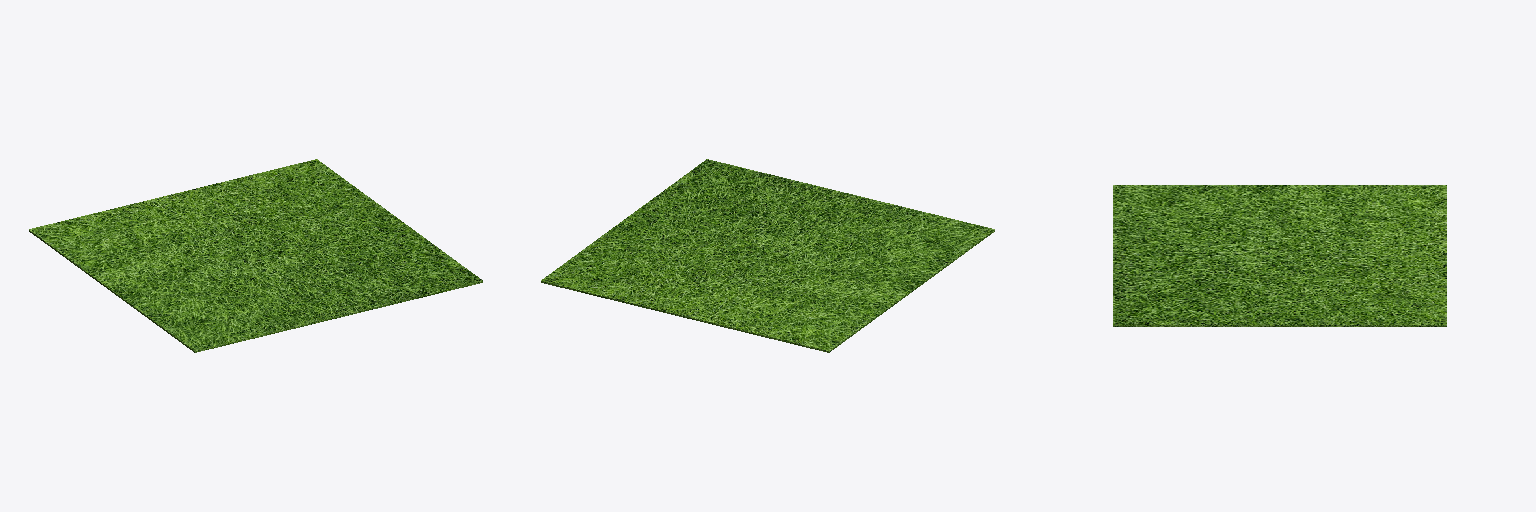
3 views of the same model, side by side, from view 1: azimuth 30°, elevation 25°; view 2: azimuth 150°, elevation 25°; view 3: azimuth 270°, elevation 25° (orthographic).
Visible parts, largest first — view 1: pCube1; view 2: pCube1; view 3: pCube1.
Boxes of the visible parts, x1,y1,x2,y2 form: pCube1: [29, 159, 482, 352]; pCube1: [541, 159, 994, 352]; pCube1: [1113, 185, 1446, 326].
Size of the model in its own units: 131 by 0.7681 by 131.
1 materials, 1 textured.